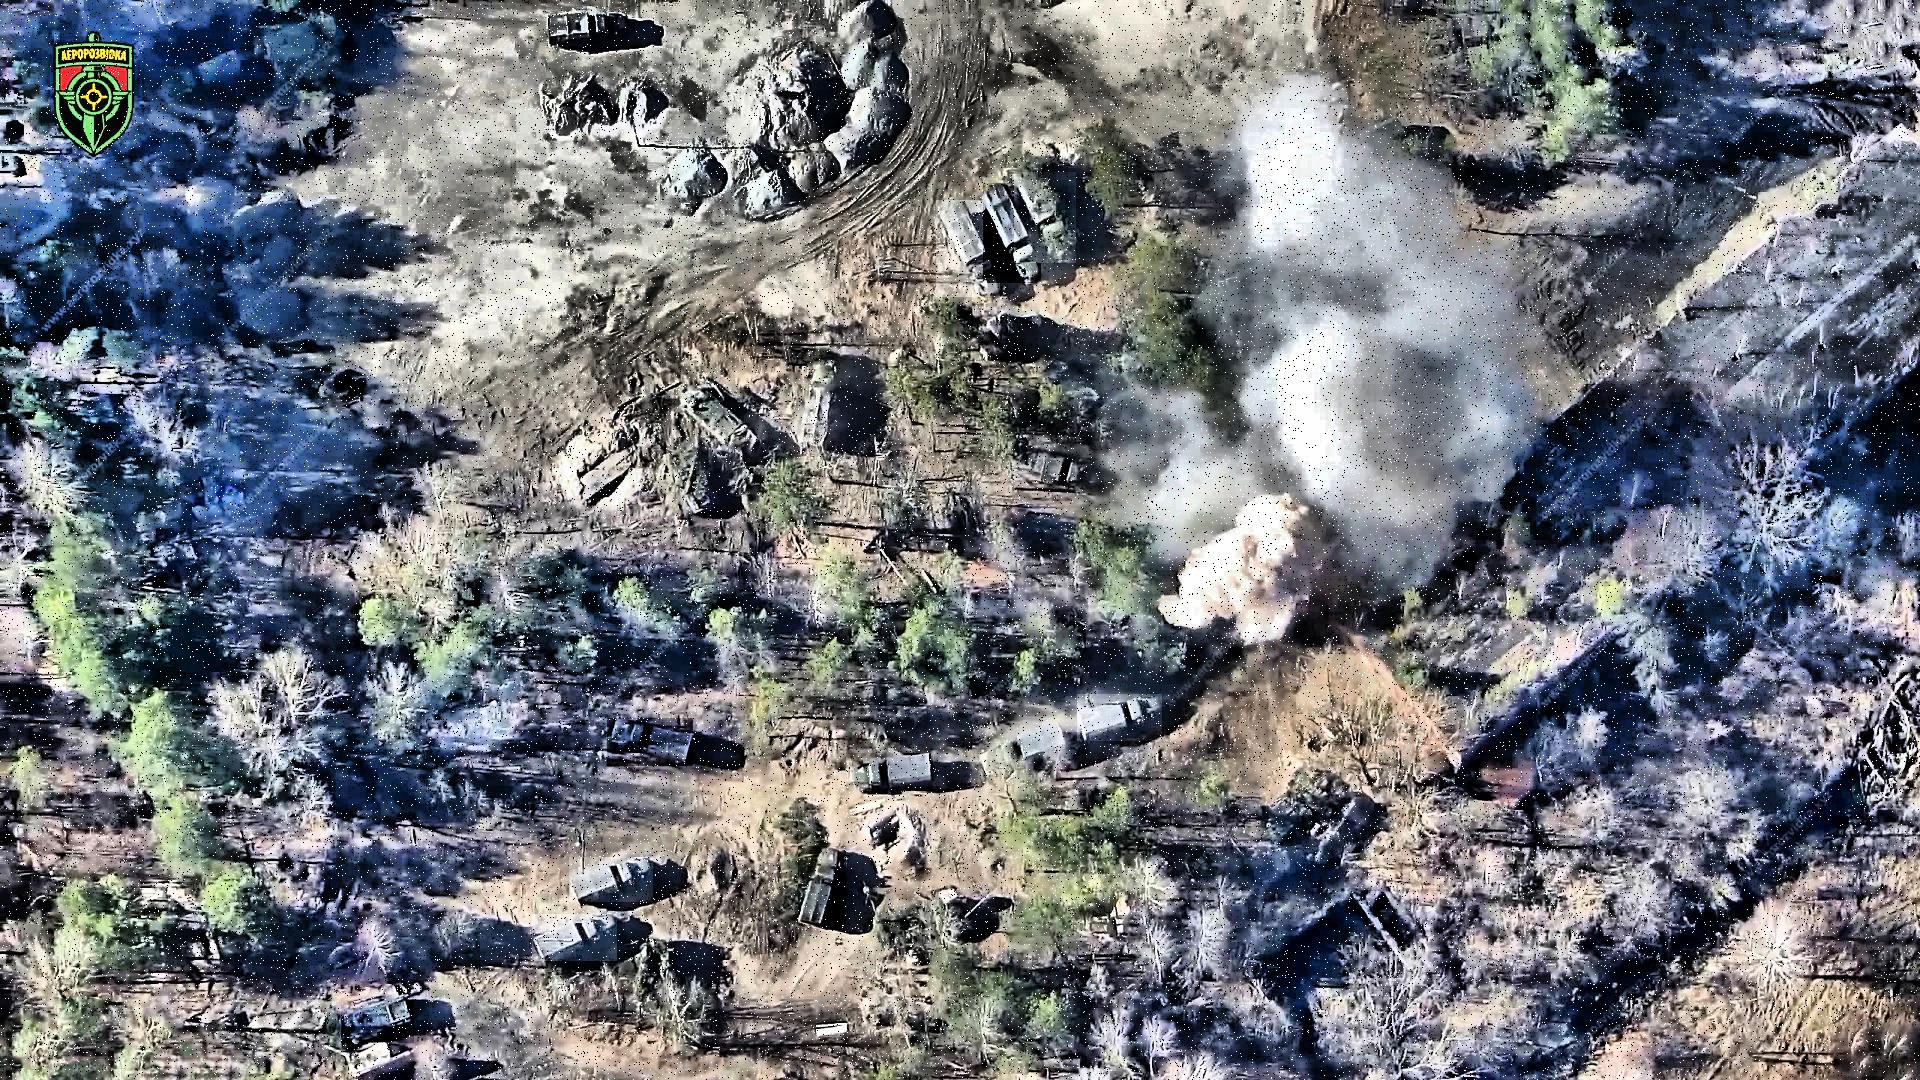military-vehicle: (936, 200, 1000, 297), (982, 183, 1042, 284), (1014, 173, 1076, 262), (978, 723, 1067, 777), (607, 719, 694, 766), (1077, 694, 1163, 741), (570, 857, 654, 903), (533, 915, 617, 961), (799, 847, 847, 927), (342, 996, 415, 1043), (847, 754, 934, 793), (549, 11, 630, 45)
